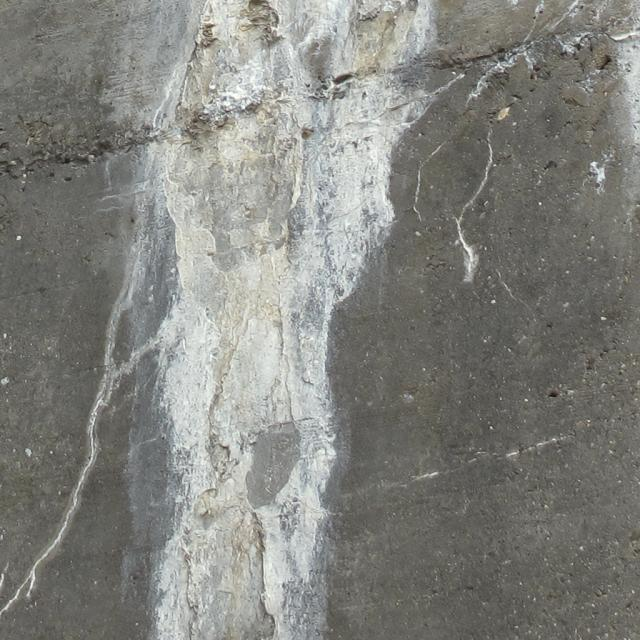D01: (100, 14, 429, 639)
